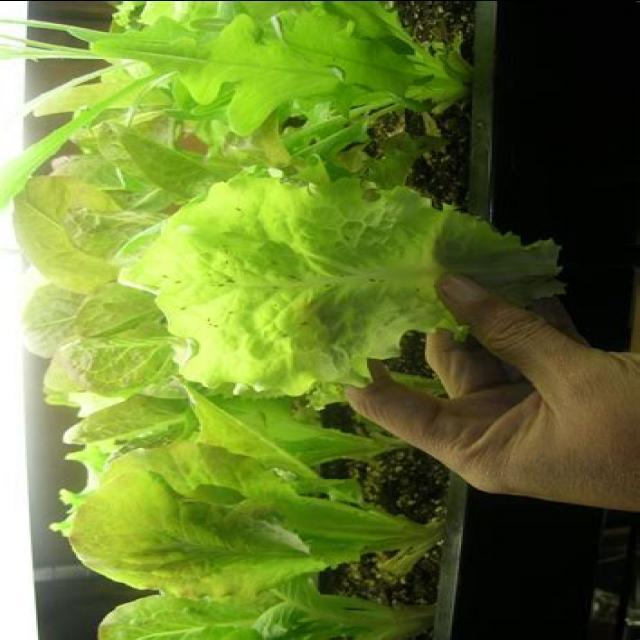healthy: (138, 180, 440, 385), (43, 10, 453, 156), (73, 468, 430, 597)
